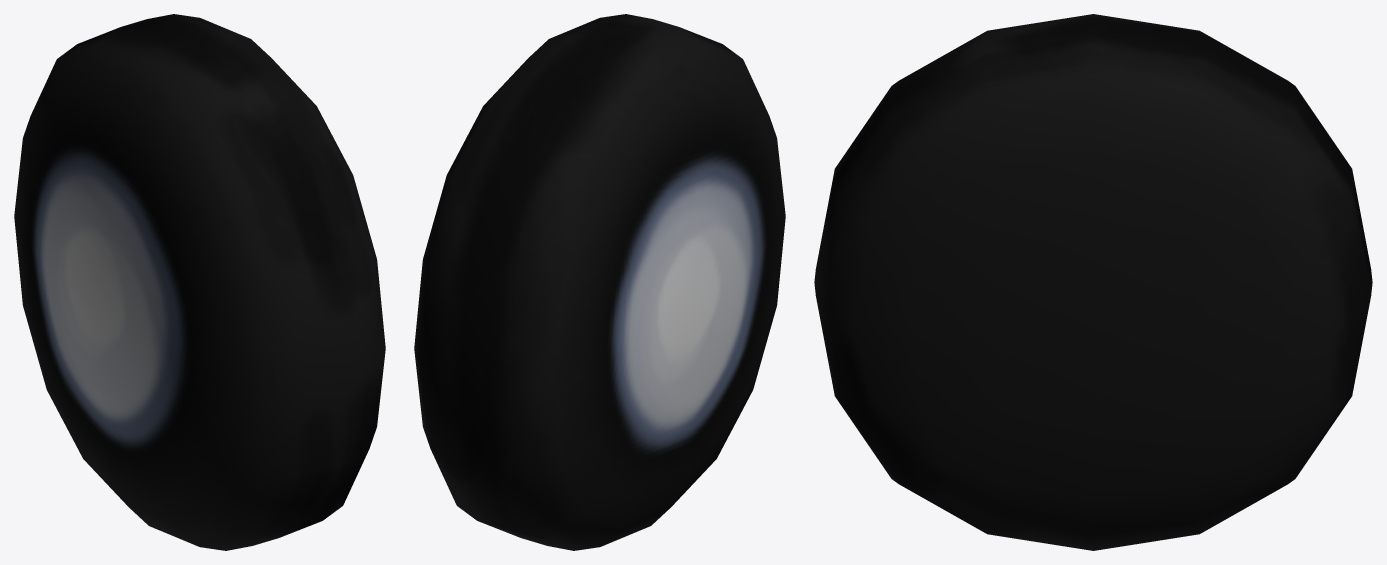
The model's file is Mothman_backwheelB.fbx.
3 views of the same model, side by side, from view 1: azimuth 30°, elevation 25°; view 2: azimuth 150°, elevation 25°; view 3: azimuth 270°, elevation 25° (orthographic). The views are drawn at different scales.
Visible parts, largest first — view 1: Plane.021; view 2: Plane.021; view 3: Plane.021.
Boxes of the visible parts, left/top/right/bottom form: Plane.021: left=14, top=14, right=385, bottom=550; Plane.021: left=414, top=14, right=785, bottom=550; Plane.021: left=814, top=14, right=1372, bottom=550.
Size of the model in its own units: 447 by 193 by 447.
1 material, 1 textured.
